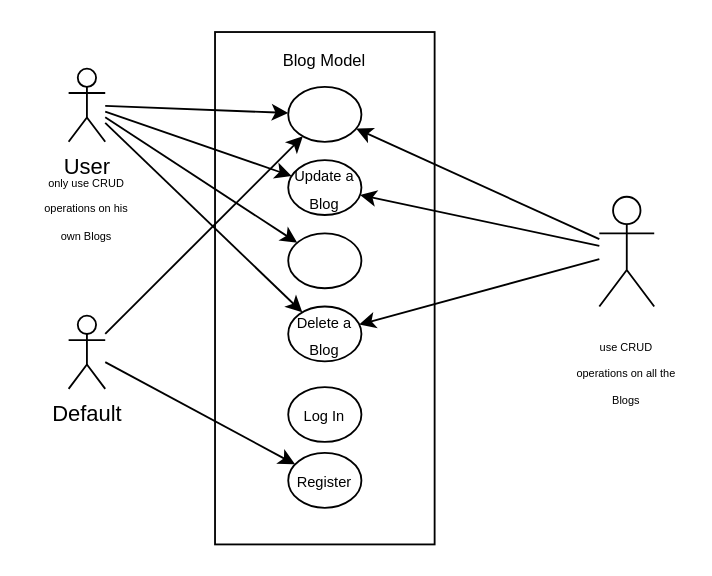
Image size: 712x576. Some labels were removed from this diagram. The shapes that lost their labels are listed below. From the top down, each one's centre as x and y in pixels, then its label:
point (323, 113): Get Blogs
point (323, 259): Create a Blog
point (625, 251): Admin
